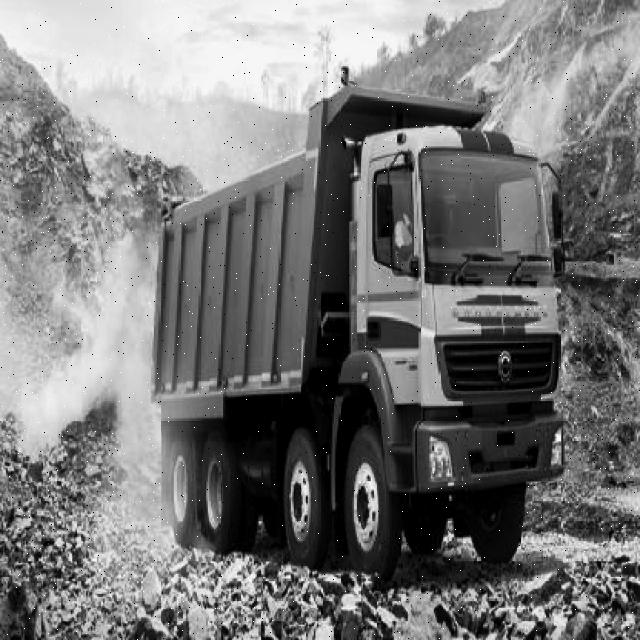HCV: (152, 124, 575, 596)
